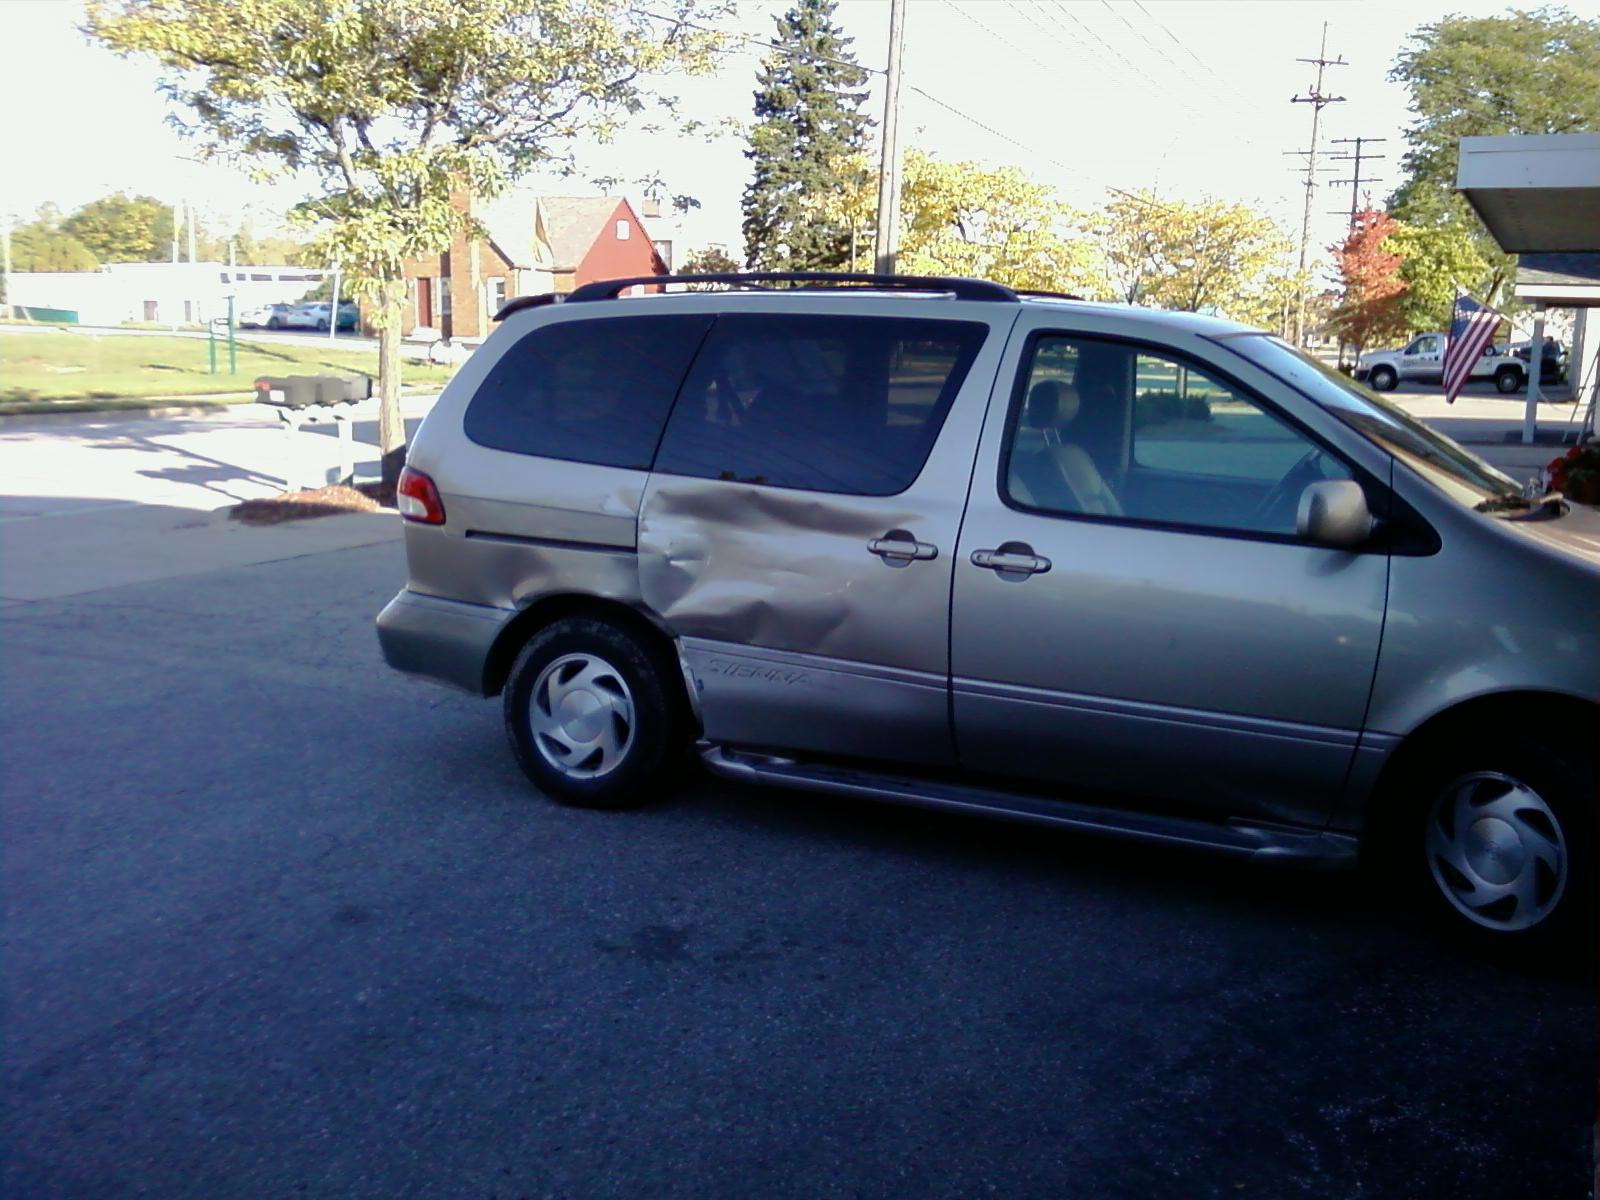doorouter-dent: (631, 500, 910, 739)
quaterpanel-dent: (408, 500, 610, 639)
